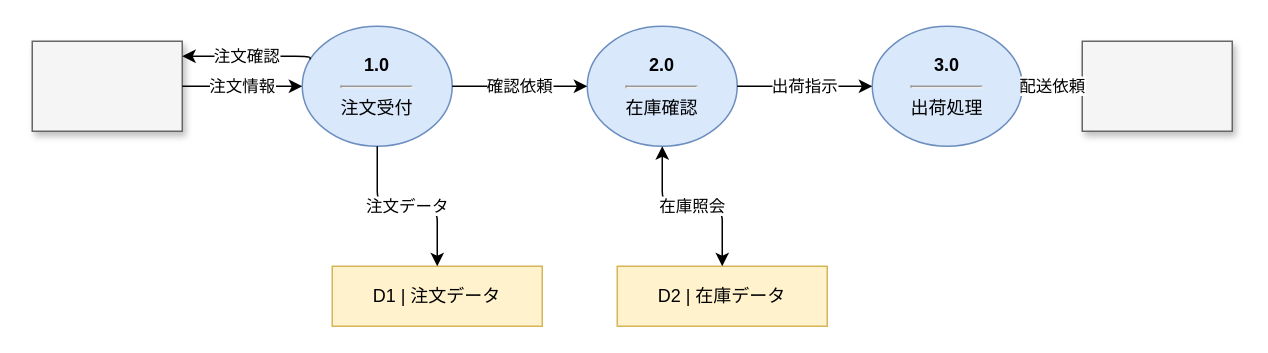
Image size: 1268x353. Some labels were removed from this diagram. The centre of each missing label's shape, as x and y in pixels:
"配送業者" belongs at (1158,88).
"顧客" belongs at (108,88).
